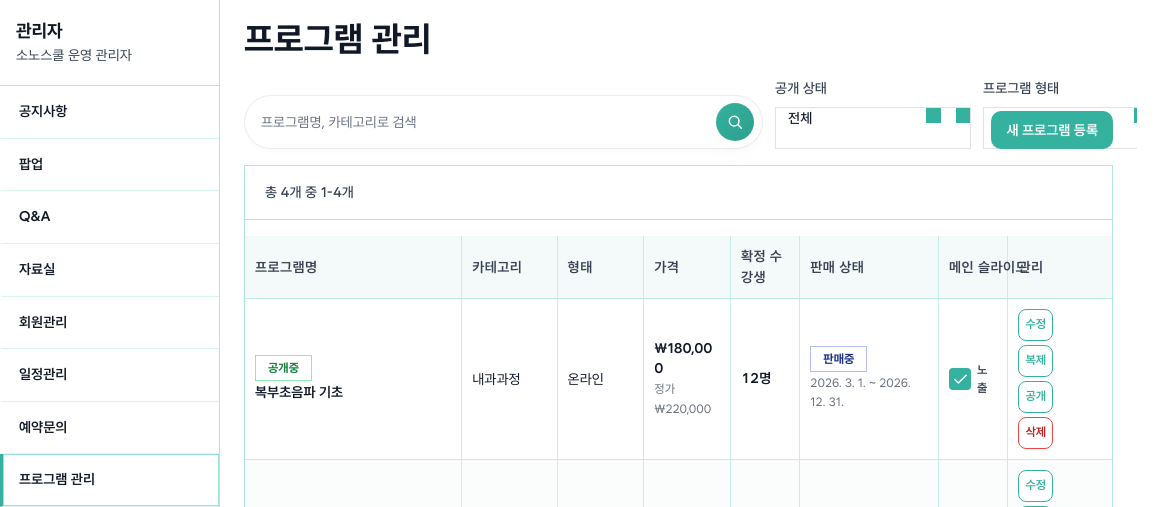
Scenario: AdminConsolePage › moves from the program list to the dedicated create page
Expected: the heading "프로그램 관리" is shown, [244,18,432,59]
Expected: the text "복부초음파 기초" is shown, [255,384,343,400]
Click the button "새 프로그램 등록".
click(1052, 130)  # box [992,111,1113,149]
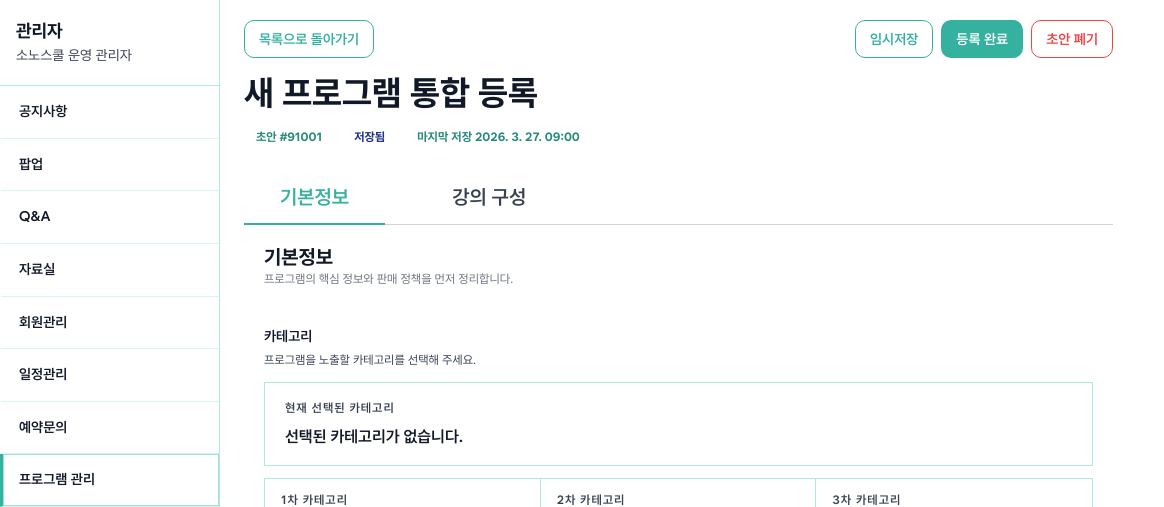
Expected: the heading "새 프로그램 통합 등록" is shown, [244,72,538,113]
